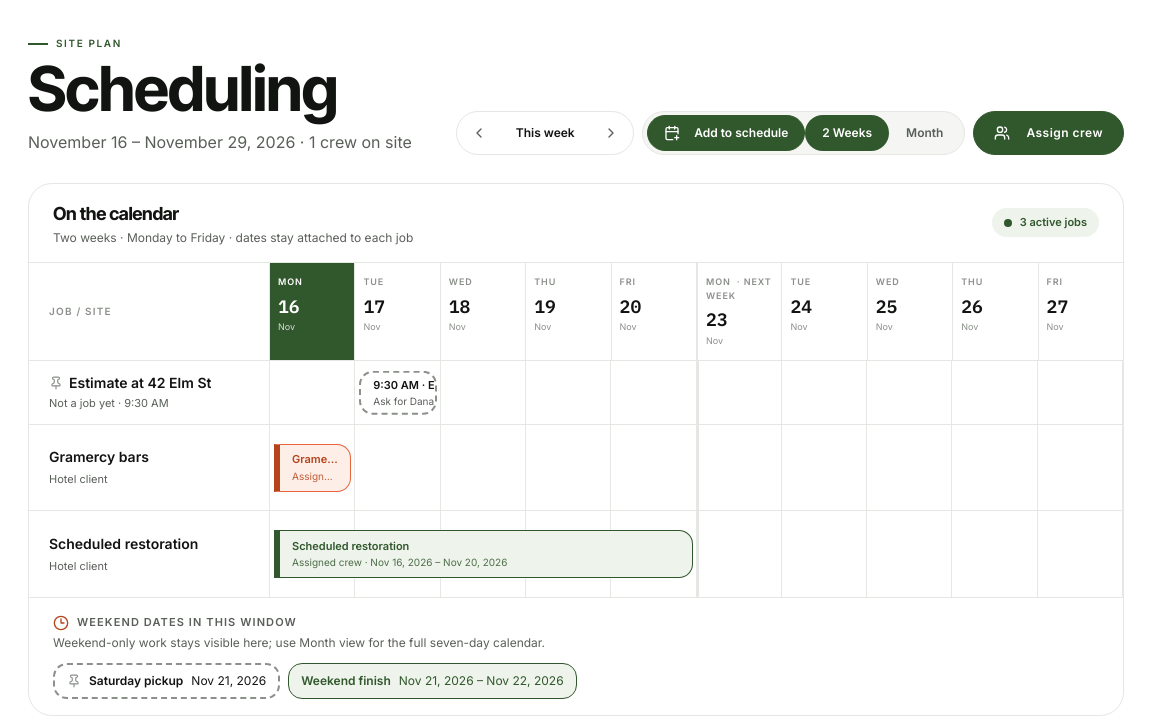
Test: Scheduling redesign › shows schedule entries beside jobs, in the weekend note, and in month view
Check: the link with test id "job-block-scheduled" is shown, box [274,530,692,578]
Check: the button with test id "entry-block-e1" shows "9:30 AM · Estimate at 42 Elm St", box [359,370,437,415]
Click the button with test id "button-view-month".
click(925, 133)  # box [889,115,960,151]
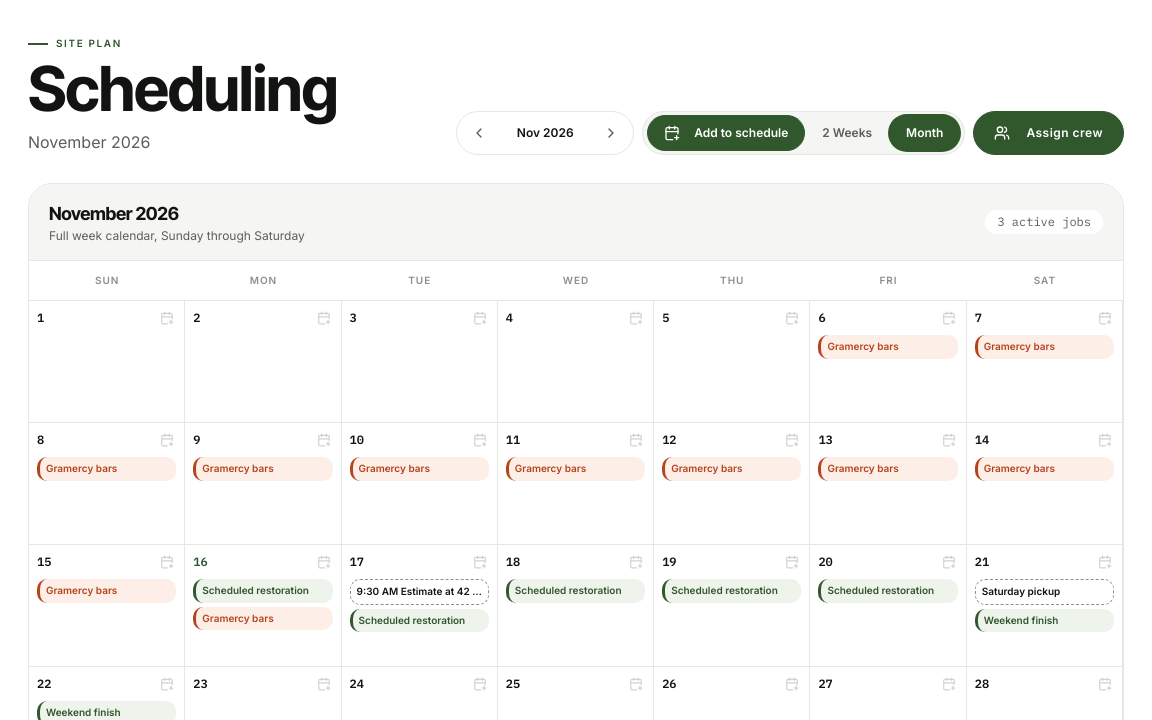
Check: the button with test id "month-entry-e1" shows "Estimate at 42 Elm St", box [350,579,489,605]
